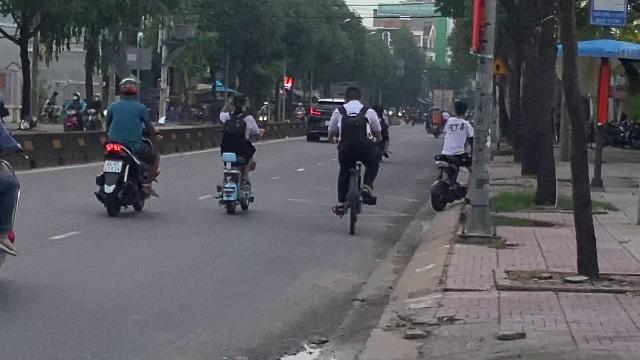helmet: (117, 78, 139, 98)
licenseplate: (103, 160, 121, 172)
motorcyclist: (95, 76, 162, 216), (213, 90, 260, 214)
nohelmet: (229, 93, 247, 112)
